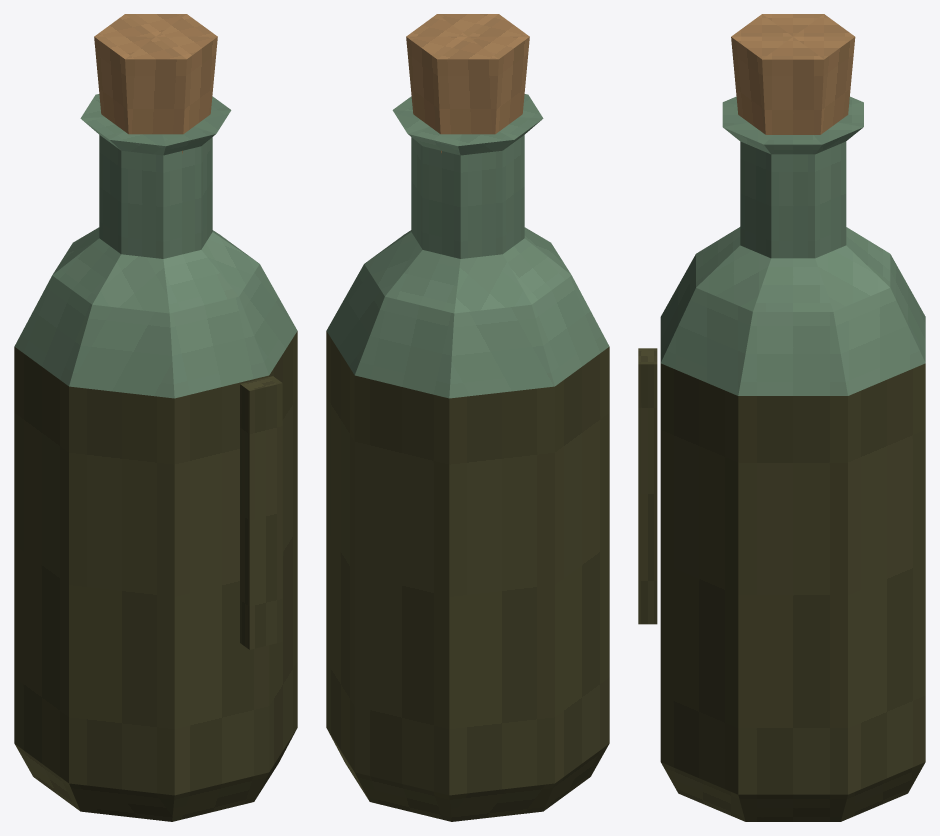
File: vial-residue.glb
The picture shows the model from 3 angles, left to right: view 1: azimuth 30°, elevation 25°; view 2: azimuth 150°, elevation 25°; view 3: azimuth 270°, elevation 25°; orthographic projection.
Parts seen in each view (by area): view 1: vial-residue.001; view 2: vial-residue.001; view 3: vial-residue.001.
Boxes of the visible parts, x1,y1,x2,y2 form: vial-residue.001: [14, 14, 297, 821]; vial-residue.001: [326, 14, 609, 821]; vial-residue.001: [638, 14, 925, 821].
Size of the model in its own units: 0.0277 by 0.085 by 0.0301.
Materials: 1 (1 with a texture image).
